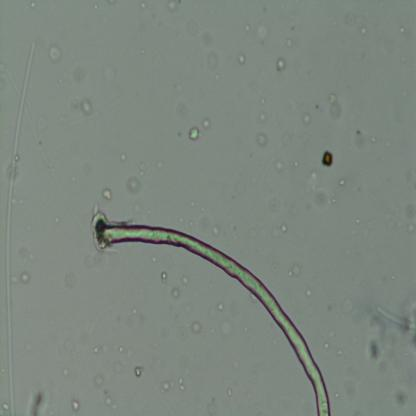Background material: (396, 193, 416, 240), (367, 334, 389, 366), (346, 124, 369, 152), (108, 334, 134, 358), (65, 59, 88, 86), (28, 386, 49, 415), (214, 315, 237, 338), (392, 385, 411, 409), (54, 358, 72, 380), (336, 298, 358, 316), (313, 194, 339, 209), (125, 175, 144, 195), (46, 43, 63, 64), (329, 92, 342, 119), (254, 130, 270, 151), (252, 23, 269, 41), (320, 150, 336, 168), (89, 369, 104, 388), (206, 54, 220, 73), (104, 395, 119, 412), (63, 271, 75, 291), (81, 99, 93, 117), (108, 363, 126, 375), (189, 124, 201, 142), (202, 116, 214, 134), (164, 1, 178, 16), (213, 298, 226, 314), (180, 99, 191, 117), (19, 271, 32, 286), (102, 187, 114, 203), (166, 286, 182, 298), (175, 375, 186, 392), (277, 55, 287, 72), (274, 159, 285, 174), (335, 176, 348, 188), (287, 267, 301, 278), (134, 364, 145, 378), (190, 320, 200, 335), (161, 380, 173, 392), (395, 22, 407, 34), (257, 110, 268, 123), (301, 112, 312, 125), (0, 400, 10, 414), (160, 268, 168, 285), (70, 400, 82, 411), (309, 169, 319, 182), (284, 36, 294, 49), (181, 273, 190, 286), (226, 387, 234, 399), (238, 54, 247, 64), (280, 222, 288, 233), (212, 225, 220, 236), (140, 1, 148, 12), (304, 290, 313, 298), (360, 26, 368, 35), (91, 347, 99, 356), (29, 1, 37, 10), (120, 154, 128, 162), (209, 38, 216, 46), (338, 353, 346, 357)
Glass filter fibre: (0, 41, 37, 414), (375, 305, 416, 331)
Microfibre: (93, 214, 332, 416)
